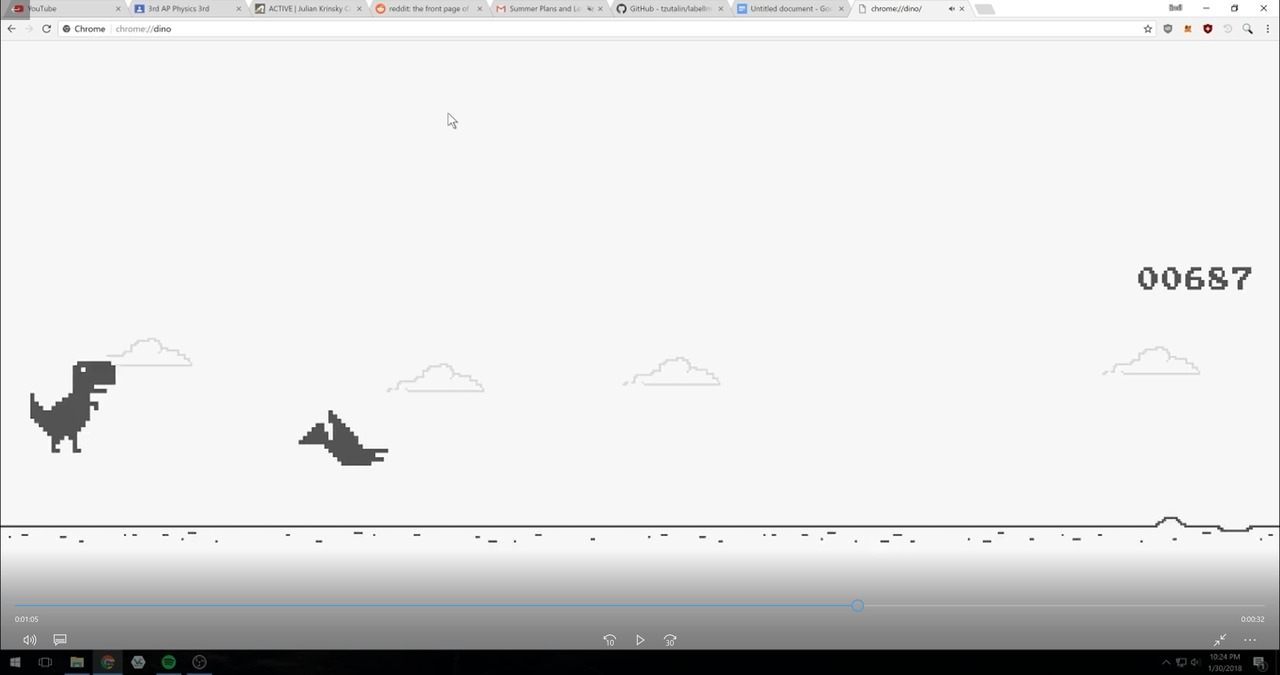bird: (297, 410, 390, 469)
dinosaur: (24, 357, 118, 456)
